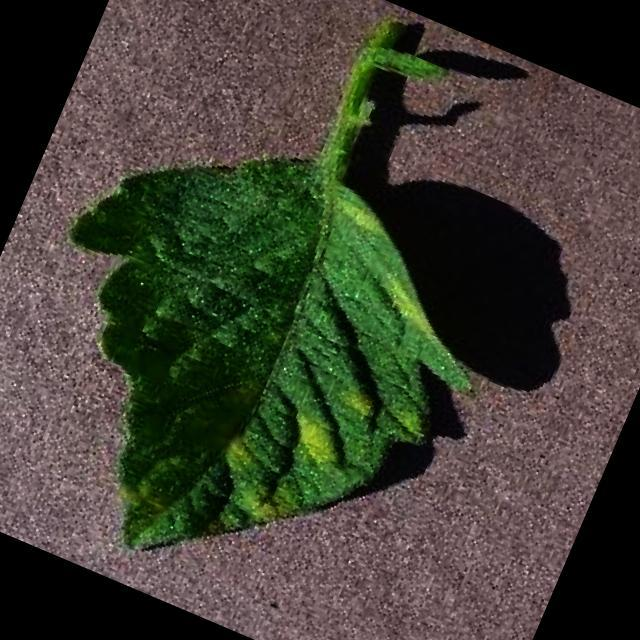Tomato mold leaf: (0, 85, 535, 640)
